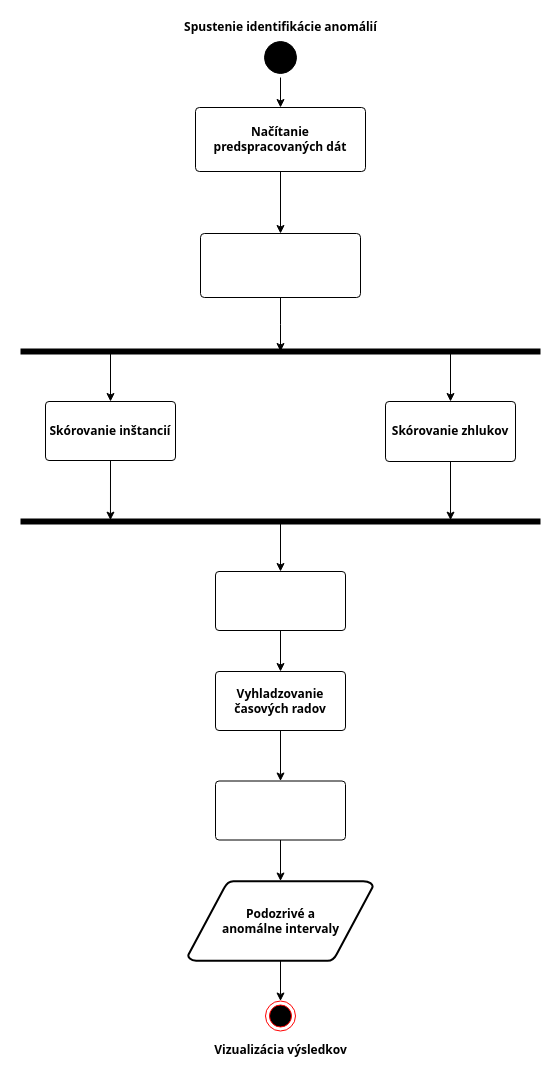
Image size: 560x1078. Some labels were removed from this diagram. Each missing label, with the centre of its shape:
Selekcia odberateľov: the point at 280,600
Skórovanie odberateľov: the point at 280,810
Vytvorenie zhlukov: the point at 280,265
